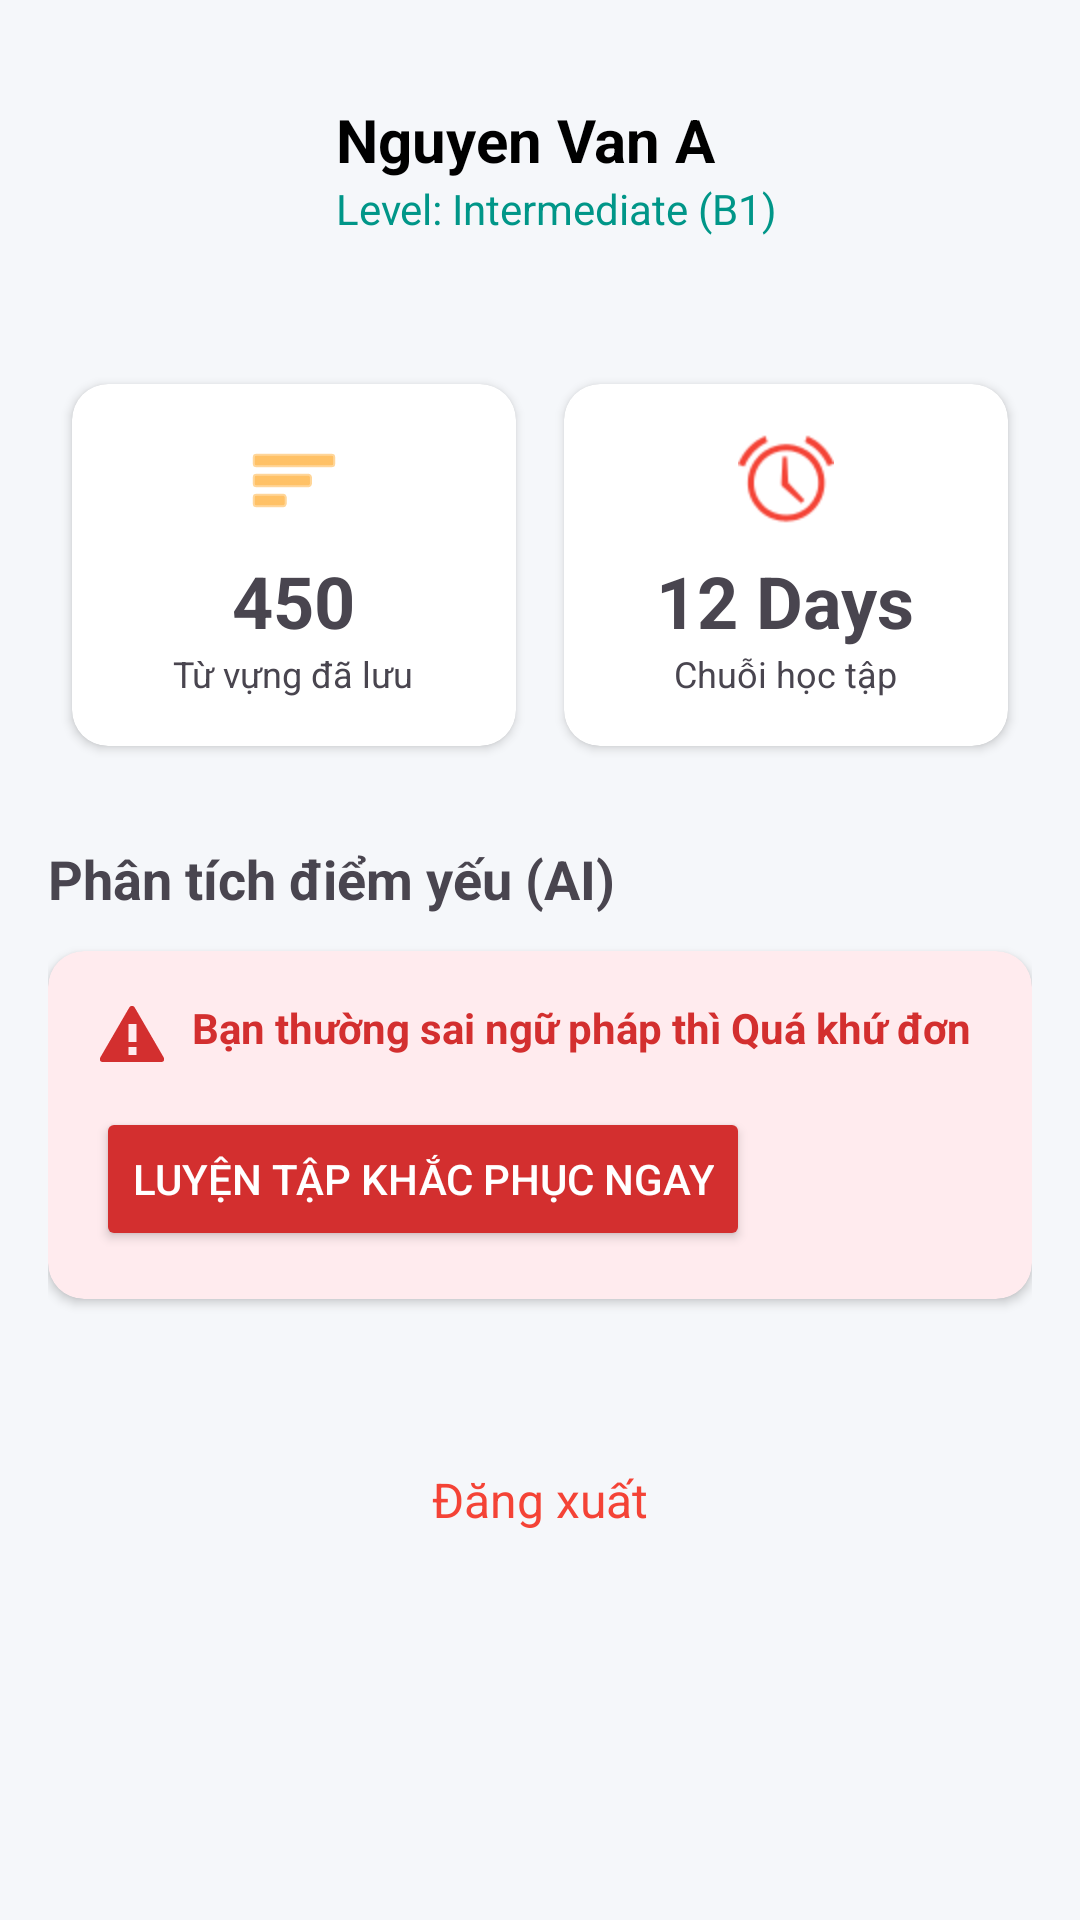

Point at icon controls on the screen. Image size 1080×1920, points as (x,y).
error: (132,1034)
lock idle alarm: (786,479)
sort by size: (294,480)
